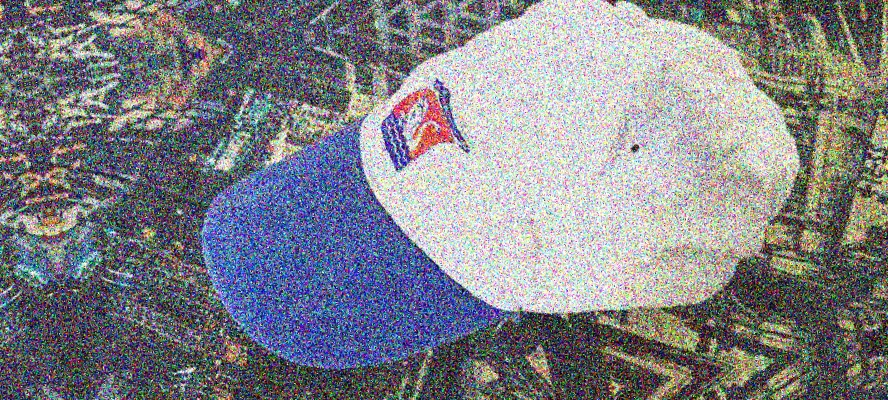Hat: (141, 0, 817, 400), (80, 0, 757, 64), (214, 393, 888, 400)
